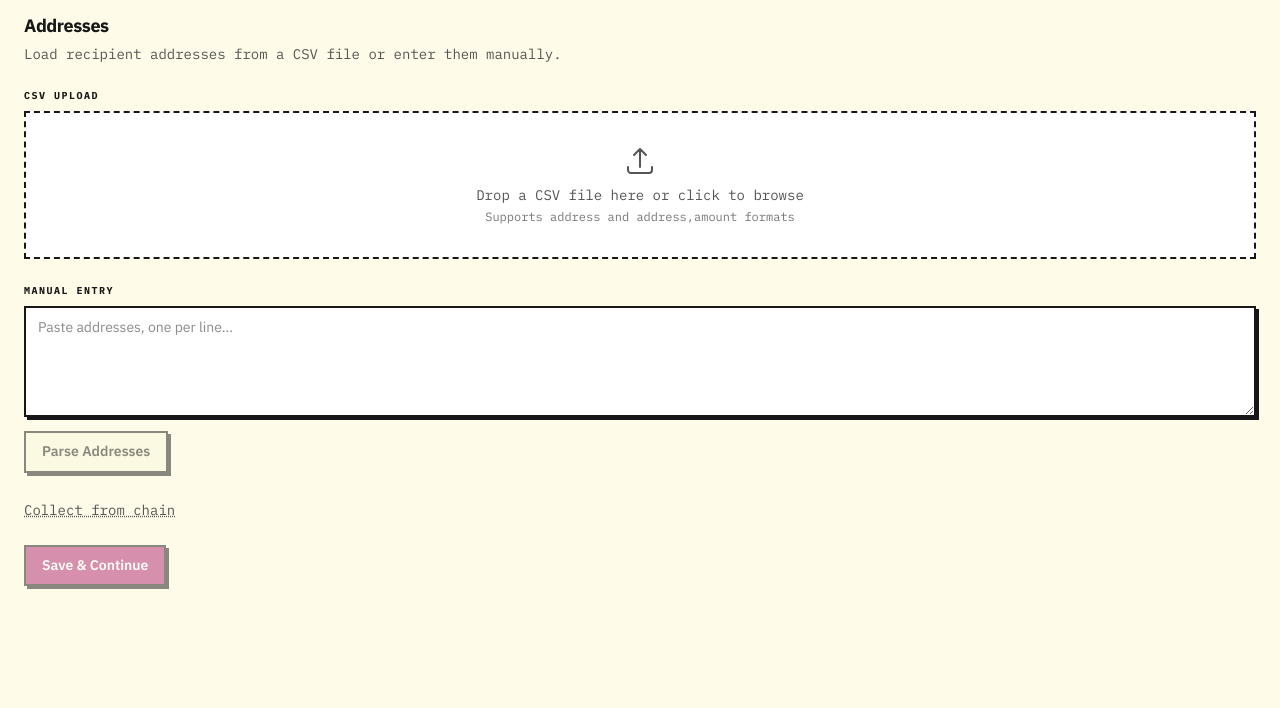
Test case: AddressesStep › disables collect button when no publicClient
Click the button "Collect from chain": point(100, 510) [24,500,175,520]
(page scrolled)
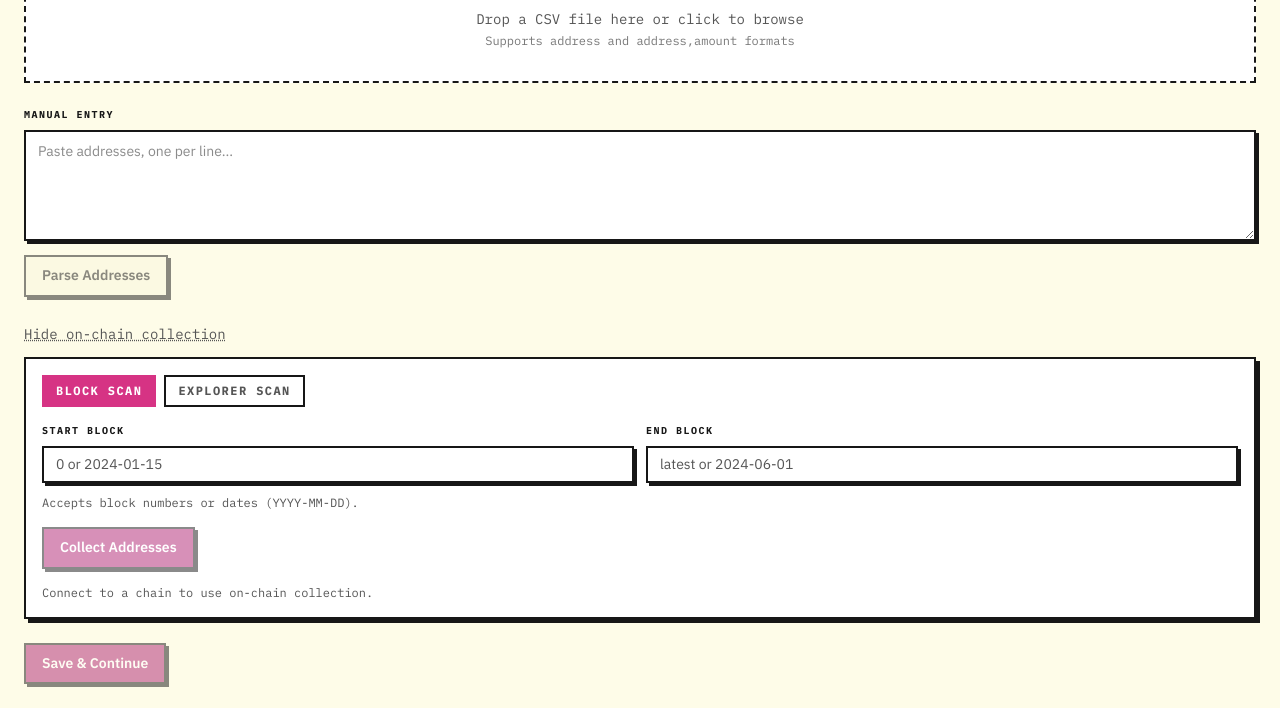
Expected: the button "Collect Addresses" is disabled, [42,527,195,568]
Expected: the text "Connect to a chain to use on-chain collection." is shown, [42,584,373,600]
